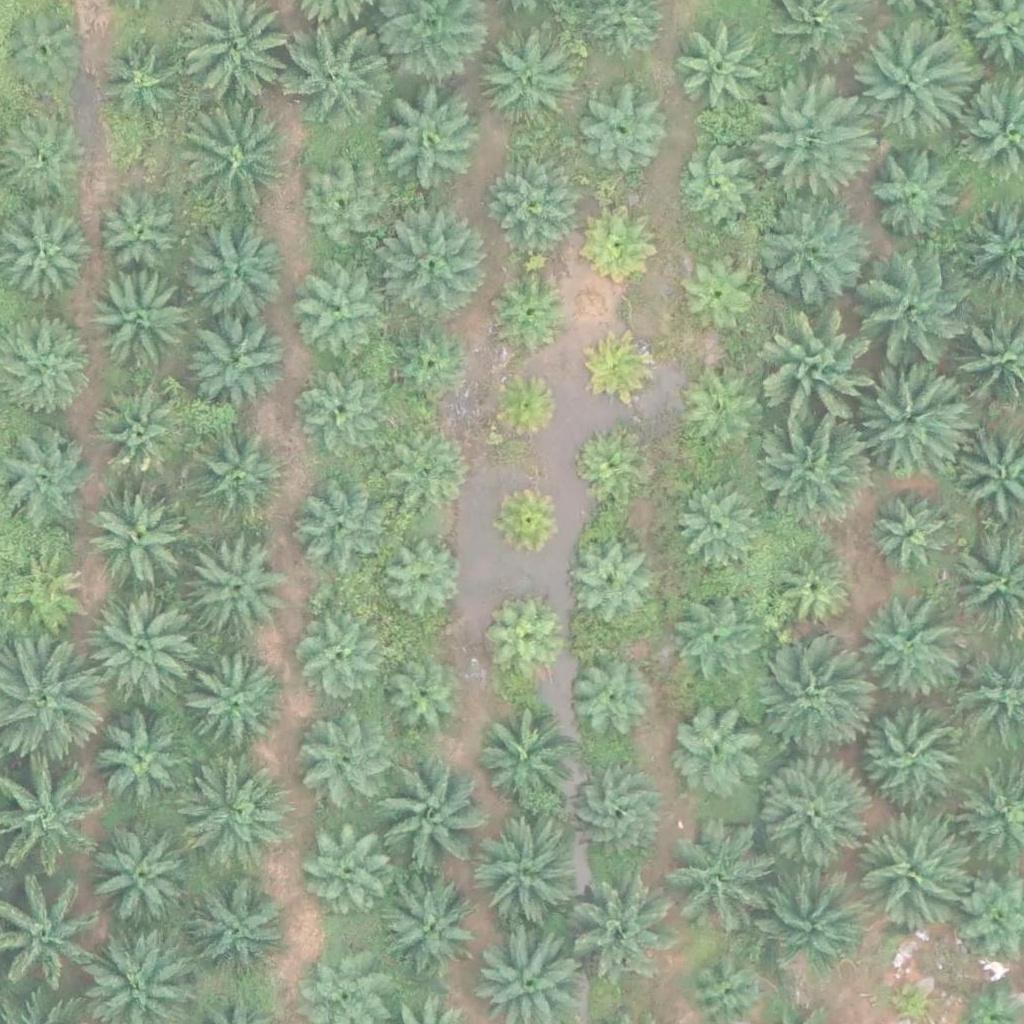Kelapa_Sawit: (856, 696, 969, 809), (753, 757, 866, 870), (176, 654, 289, 767), (177, 763, 290, 876), (87, 820, 200, 933), (861, 256, 974, 369), (760, 414, 873, 527), (374, 82, 487, 195), (375, 205, 488, 318), (284, 18, 397, 131), (174, 109, 287, 222), (753, 859, 865, 973), (470, 820, 582, 934), (860, 33, 972, 147), (766, 318, 878, 432), (849, 597, 961, 710), (854, 814, 966, 927), (751, 648, 863, 761), (564, 865, 676, 978), (368, 759, 480, 872), (88, 598, 200, 711), (856, 361, 968, 474), (753, 192, 865, 305), (753, 77, 865, 190), (661, 832, 761, 933), (474, 708, 574, 809), (377, 876, 477, 977), (298, 713, 398, 814), (187, 533, 287, 634), (94, 713, 194, 814), (861, 138, 961, 239), (672, 22, 772, 123), (476, 26, 576, 127), (183, 225, 283, 326), (188, 308, 288, 409), (88, 481, 188, 582), (187, 425, 287, 526), (294, 477, 394, 578), (90, 273, 190, 374), (668, 698, 768, 798), (566, 766, 666, 866), (188, 881, 287, 982), (768, 547, 856, 635), (563, 540, 651, 628), (289, 612, 377, 700), (385, 320, 473, 408), (385, 438, 473, 526), (868, 492, 956, 580), (93, 34, 181, 122), (671, 248, 759, 336), (676, 371, 764, 459), (295, 276, 383, 364), (296, 368, 384, 456), (98, 184, 186, 272), (668, 597, 755, 686), (565, 656, 652, 744), (381, 536, 468, 624), (378, 660, 465, 748), (304, 828, 391, 916), (674, 146, 761, 234), (675, 480, 762, 568), (489, 156, 576, 244), (576, 87, 663, 175), (301, 165, 388, 253), (93, 390, 180, 478), (2, 214, 89, 302), (1, 550, 88, 638), (570, 426, 645, 502), (487, 606, 562, 682), (492, 479, 567, 555), (585, 330, 660, 406), (495, 272, 570, 347), (487, 369, 562, 444), (585, 208, 660, 283)
